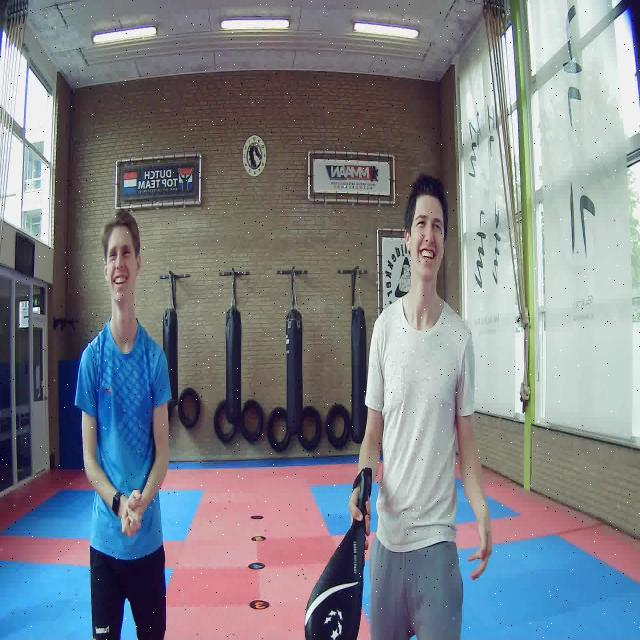paddle: (306, 465, 371, 640)
